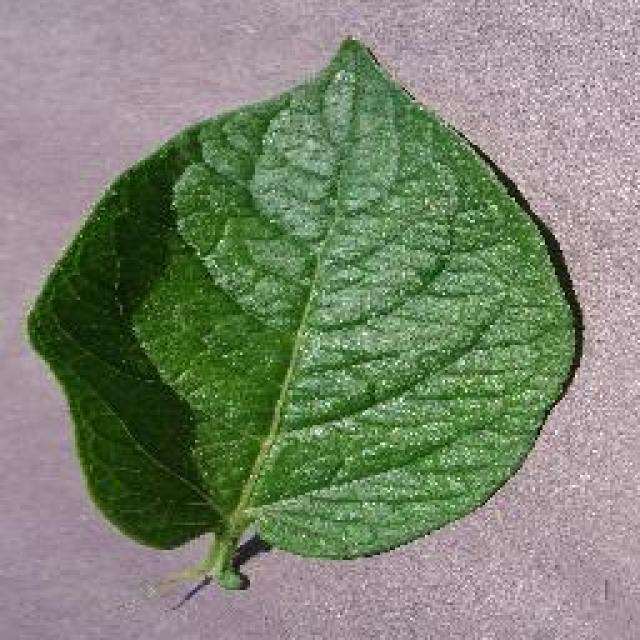healthy: (22, 32, 588, 590)
